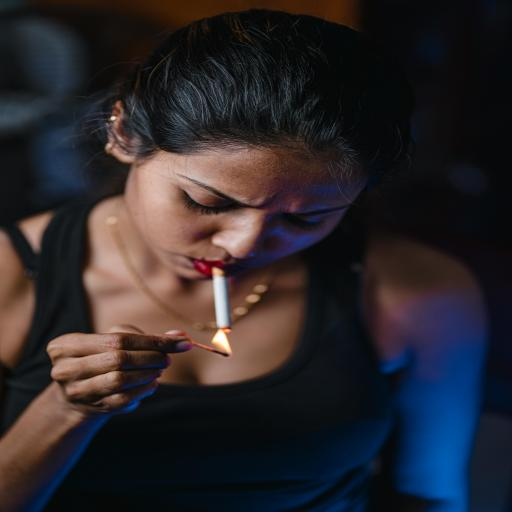merokok: (141, 220, 278, 374)
